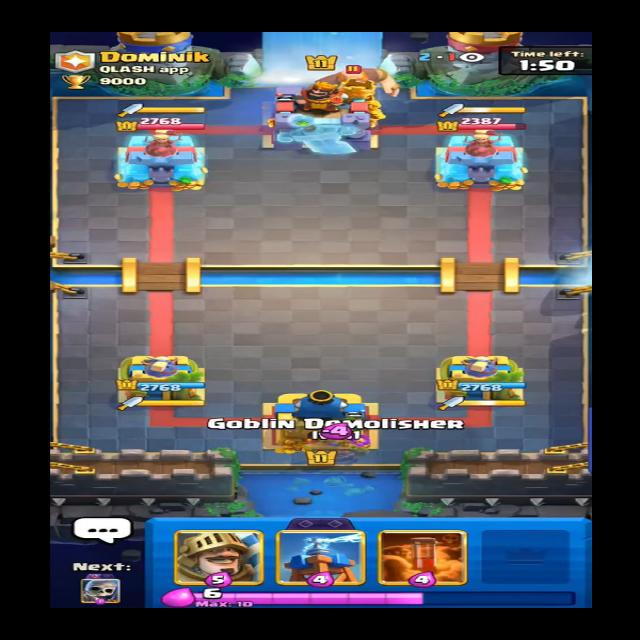Giant: (298, 64, 411, 107)
